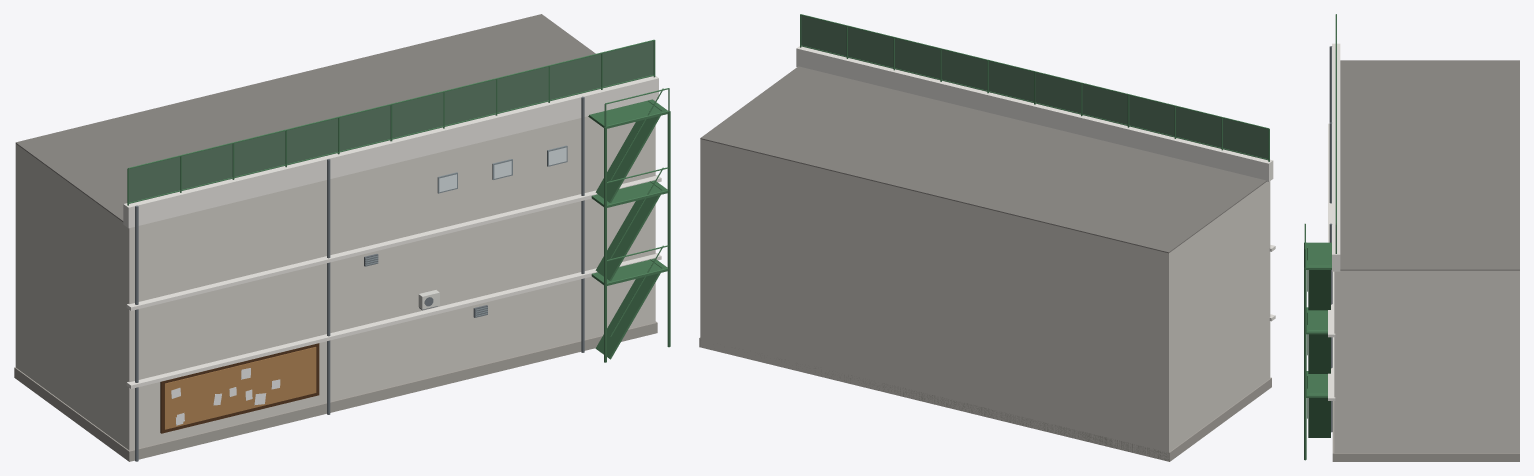
Rendered from School_Wing.fbx.
The picture shows the model from 3 angles, left to right: view 1: azimuth 30°, elevation 25°; view 2: azimuth 150°, elevation 25°; view 3: azimuth 270°, elevation 25°; orthographic projection. The views are drawn at different scales.
Parts seen in each view (by area): view 1: School_Wing; view 2: School_Wing; view 3: School_Wing.
Boxes of the visible parts, x1,y1,x2,y2 form: School_Wing: [14, 14, 670, 461]; School_Wing: [699, 14, 1275, 461]; School_Wing: [1304, 14, 1519, 461].
Bounding box in the file's own units: 24.2 × 12.75 × 10.46.
